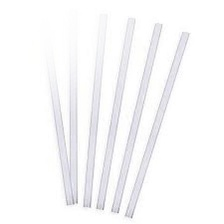drinking_straw: (119, 27, 193, 222), (36, 8, 75, 208), (79, 9, 112, 210)
